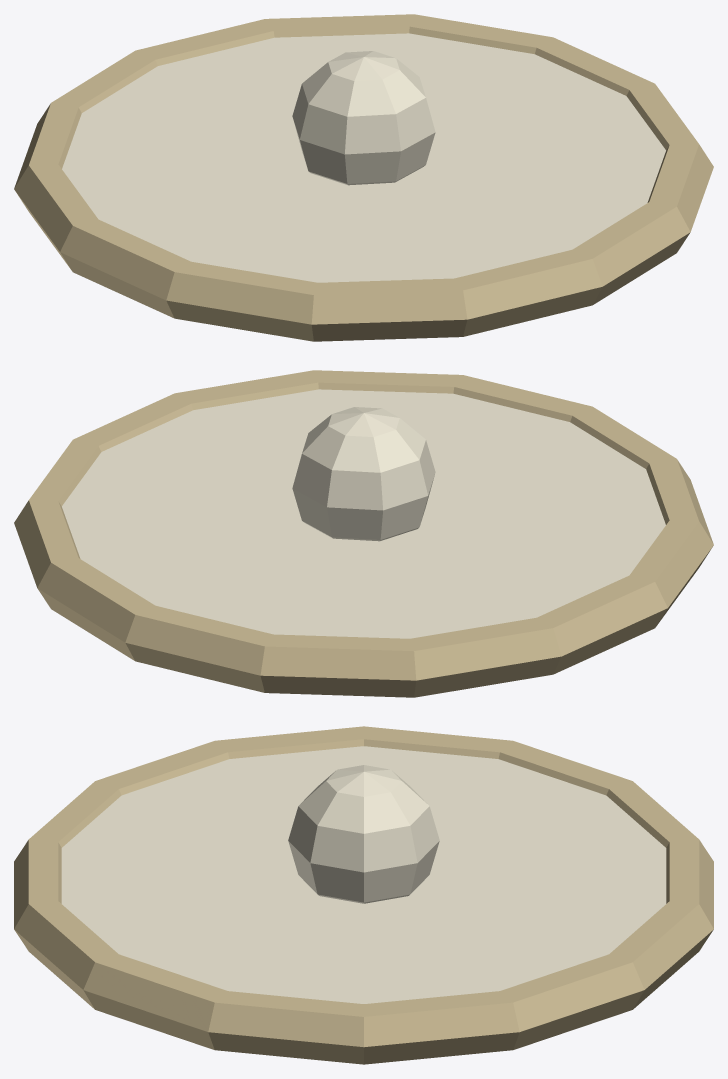
File: bone_shield.dae
The picture shows the model from 3 angles, top to bottom: view 1: azimuth 30°, elevation 25°; view 2: azimuth 150°, elevation 25°; view 3: azimuth 270°, elevation 25°; orthographic projection. The views are drawn at different scales.
Visible parts, largest first — view 1: Cylinder, Torus.006, Sphere; view 2: Cylinder, Torus.006, Sphere; view 3: Cylinder, Torus.006, Sphere.
Boxes of the visible parts, left/top/right/bottom form: Cylinder: left=62, top=33, right=665, bottom=282; Torus.006: left=14, top=14, right=713, bottom=341; Sphere: left=292, top=51, right=435, bottom=185; Cylinder: left=62, top=389, right=665, bottom=638; Torus.006: left=14, top=370, right=713, bottom=697; Sphere: left=292, top=407, right=435, bottom=541; Cylinder: left=61, top=746, right=666, bottom=1003; Torus.006: left=14, top=726, right=713, bottom=1064; Sphere: left=288, top=765, right=439, bottom=903.
Bounding box in the file's own units: 142 × 138 × 32.2.
